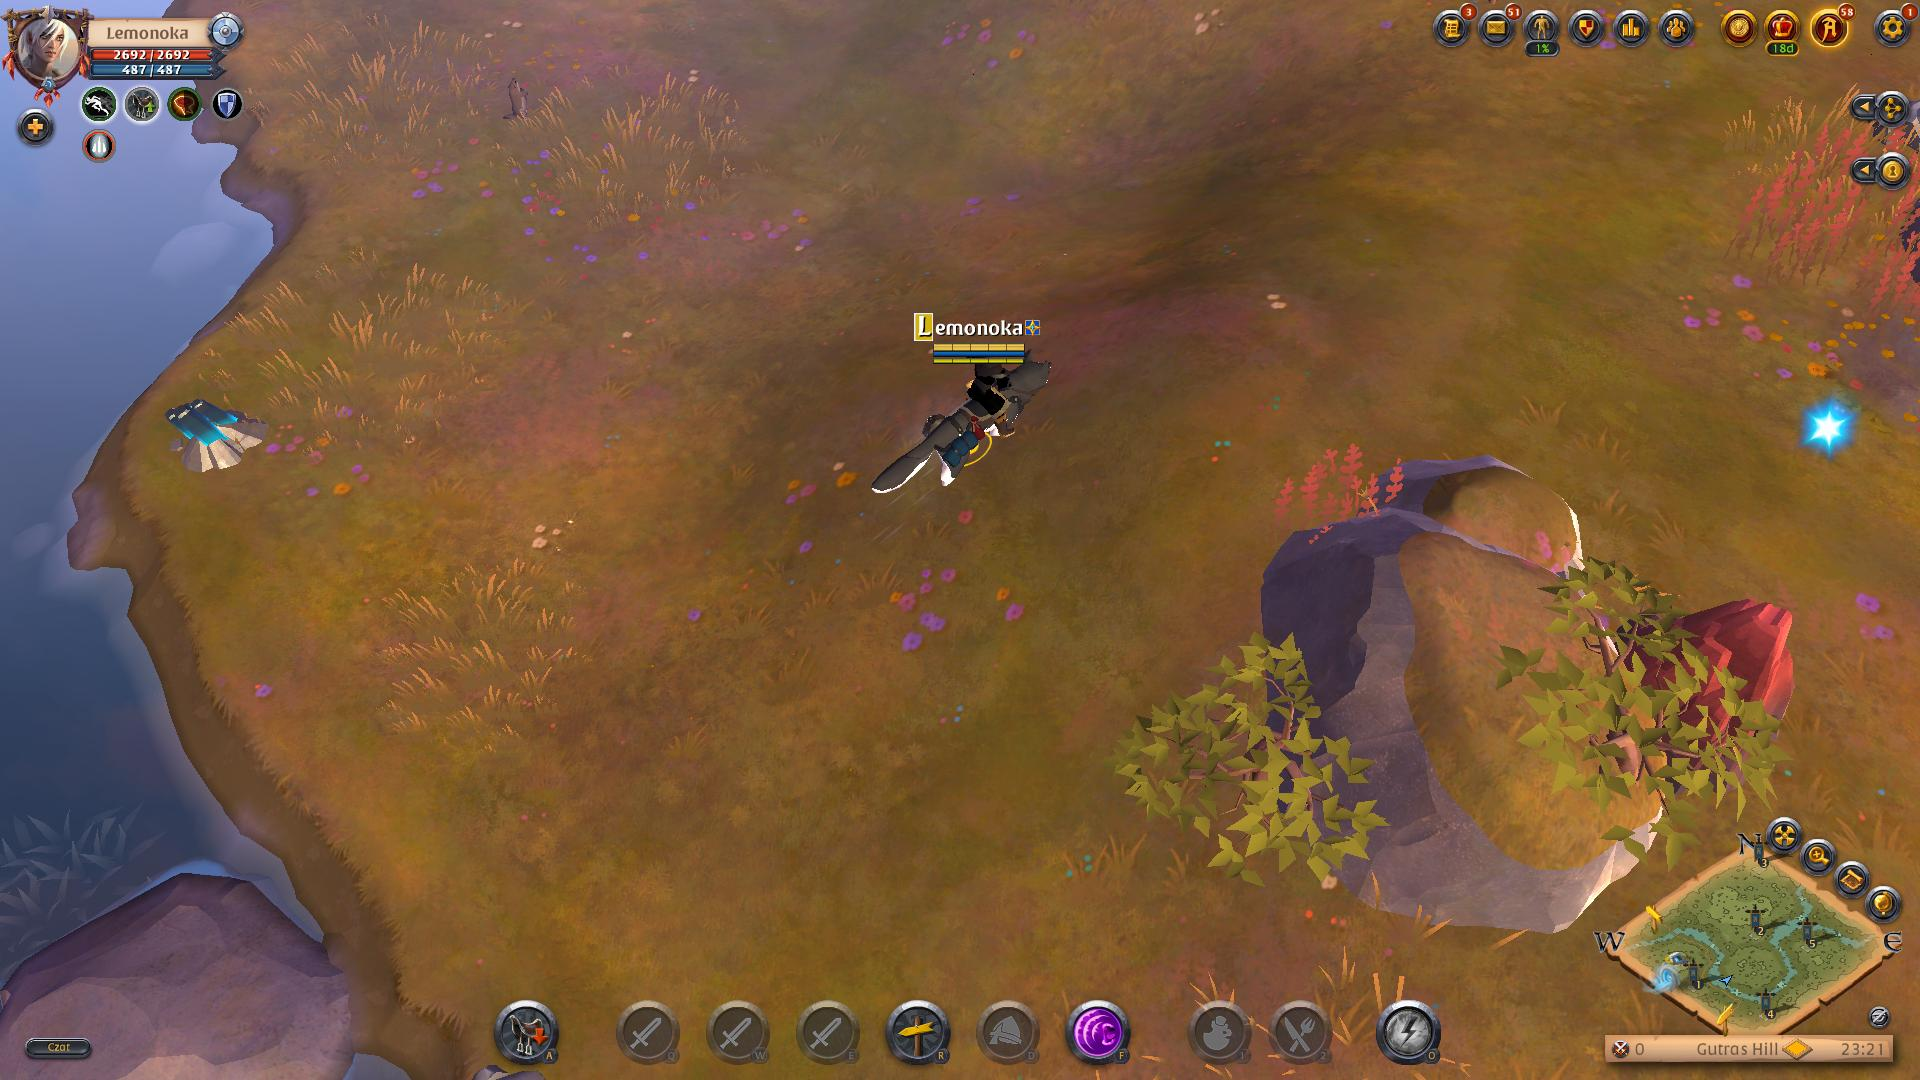ore tier 4: (162, 396, 276, 480)
